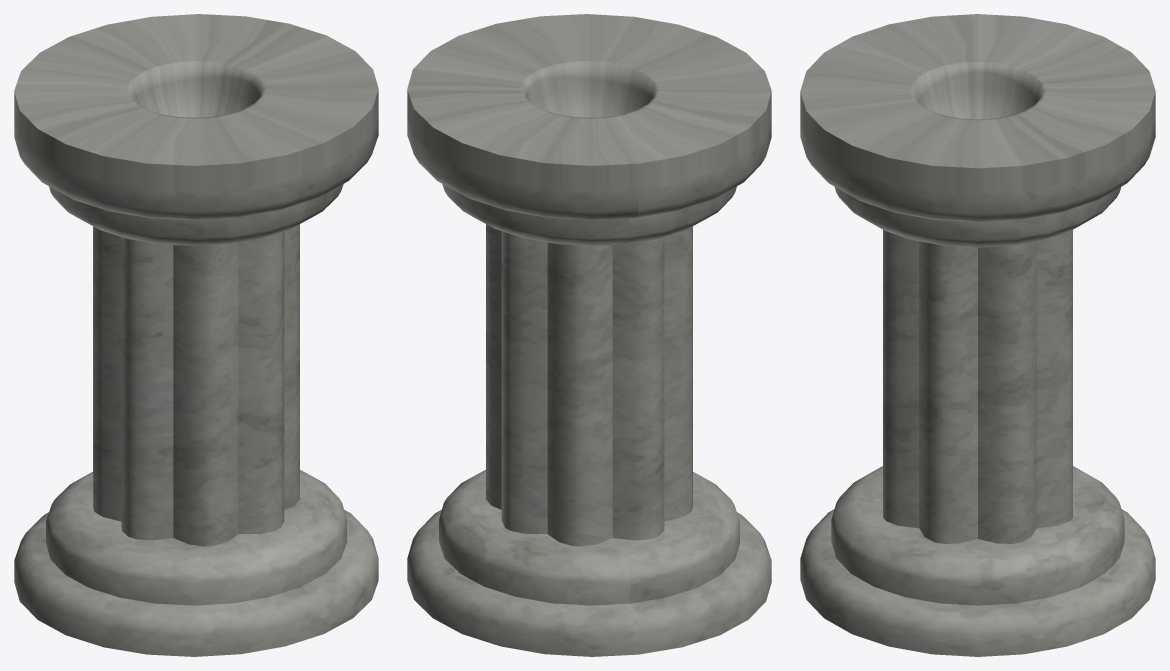
File: pillarCappedRefined 1.fbx
The picture shows the model from 3 angles, left to right: view 1: azimuth 30°, elevation 25°; view 2: azimuth 150°, elevation 25°; view 3: azimuth 270°, elevation 25°; orthographic projection.
Parts seen in each view (by area): view 1: pillar; view 2: pillar; view 3: pillar.
Part boxes in pixels (left/top/right/bottom): pillar: left=14, top=14, right=378, bottom=656; pillar: left=407, top=14, right=771, bottom=656; pillar: left=800, top=14, right=1155, bottom=656.
Size of the model in its own units: 85.63 by 126 by 83.3.
